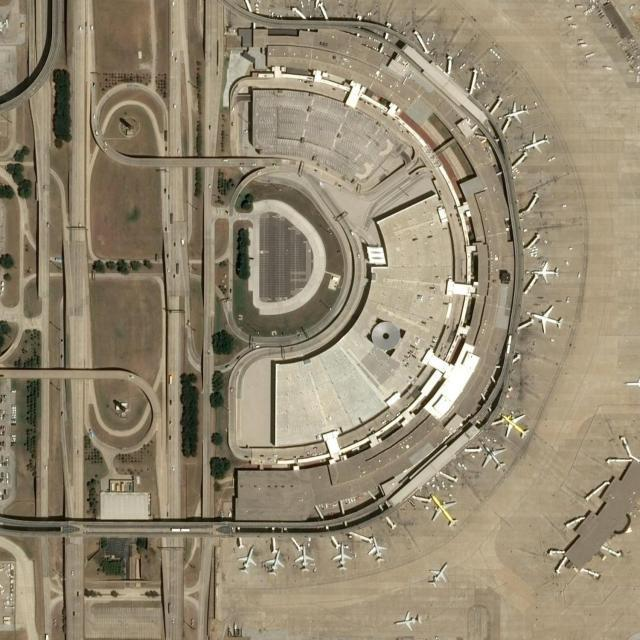Aircraft: (427, 491, 460, 527), (529, 305, 564, 336), (499, 410, 532, 440), (481, 441, 506, 472), (328, 543, 354, 572), (393, 608, 423, 632), (521, 130, 551, 154), (365, 534, 389, 563), (502, 101, 530, 125), (294, 545, 316, 575), (428, 559, 447, 591), (263, 546, 283, 575), (532, 262, 560, 282), (238, 544, 256, 572), (302, 0, 333, 10)
